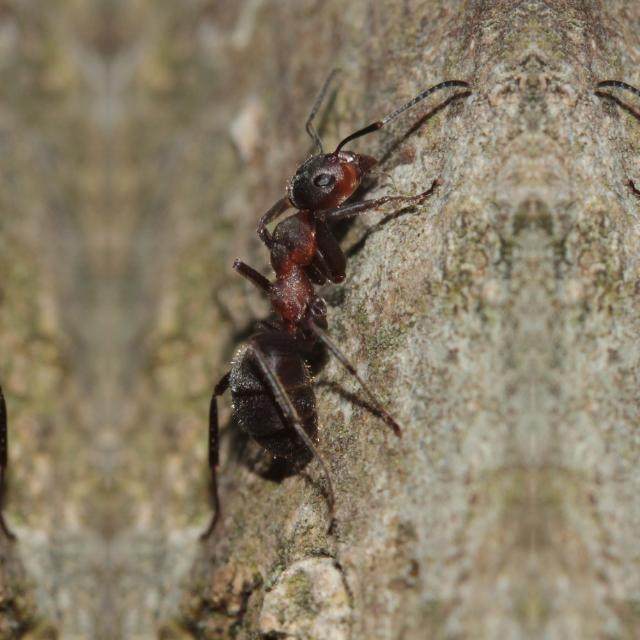Formica: (166, 72, 428, 494)
